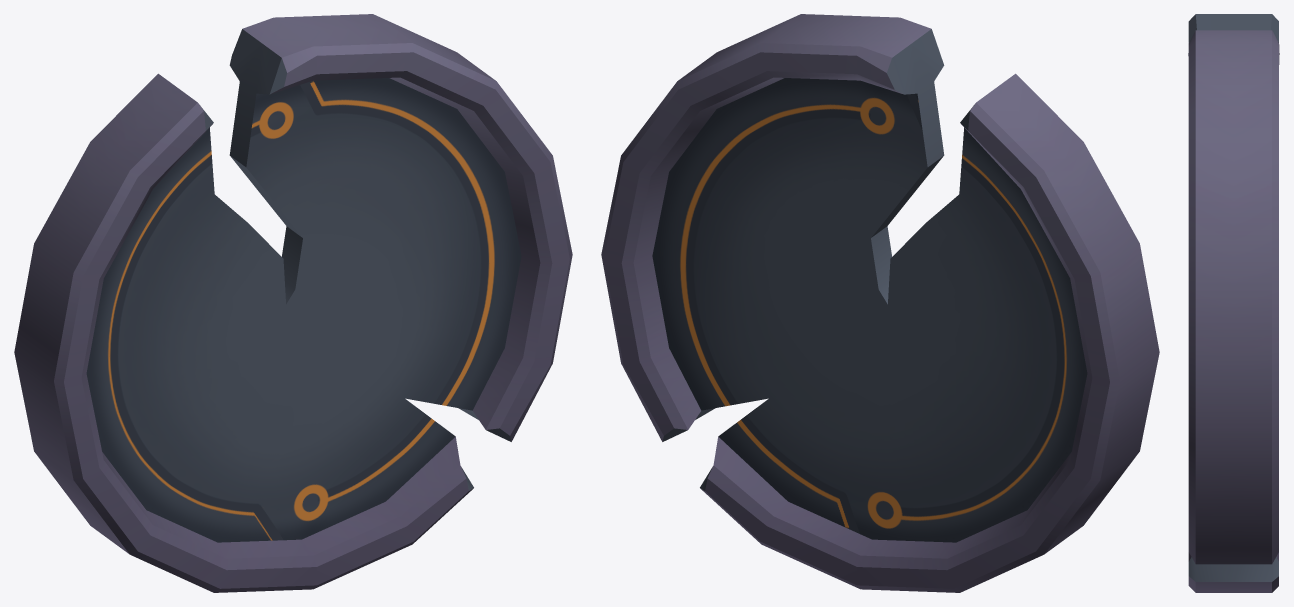
The model's file is MODEL_SymbolPlate-Broken.fbx.
3 views of the same model, side by side, from view 1: azimuth 30°, elevation 25°; view 2: azimuth 150°, elevation 25°; view 3: azimuth 270°, elevation 25° (orthographic). The views are drawn at different scales.
Parts seen in each view (by area): view 1: SymbolPlate.002; view 2: SymbolPlate.002; view 3: SymbolPlate.002.
Boxes of the visible parts, left/top/right/bottom form: SymbolPlate.002: left=14, top=14, right=572, bottom=592; SymbolPlate.002: left=601, top=14, right=1159, bottom=592; SymbolPlate.002: left=1188, top=14, right=1279, bottom=592.
Size of the model in its own units: 38 by 38 by 5.98.
Materials: 1 (1 with a texture image).
